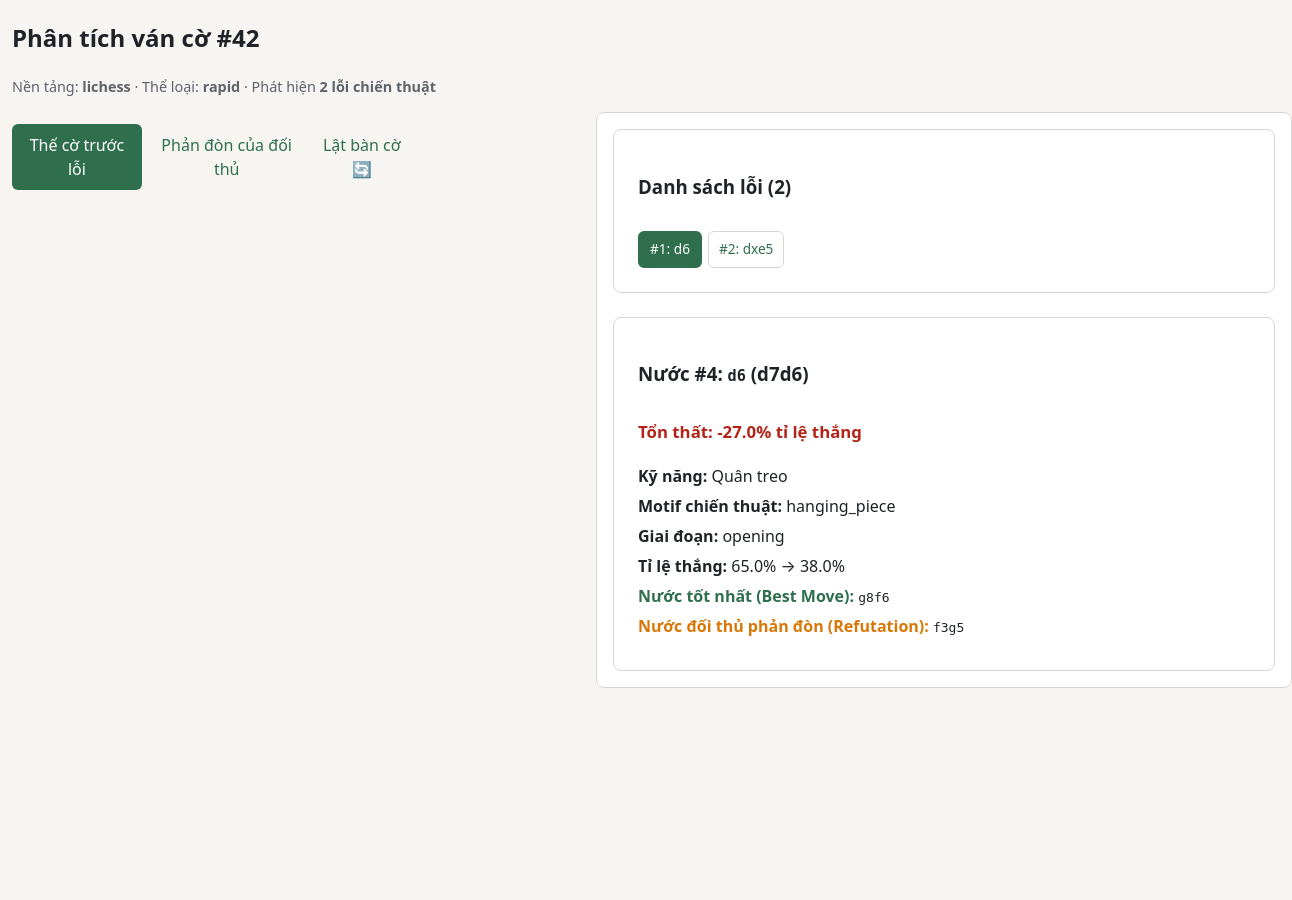
it: GameAnalysisView - Component Tests › 13. MistakeSelector: Chuyển đổi qua lại giữa các lỗi trong ván cờ
Expected: the heading "Nước #4: d6 (d7d6)" is shown, [638,361,808,386]
Note: Click chọn lỗi 2 (dxe5)
Click the button "#2: dxe5".
click(746, 250)  # box [708,231,784,268]
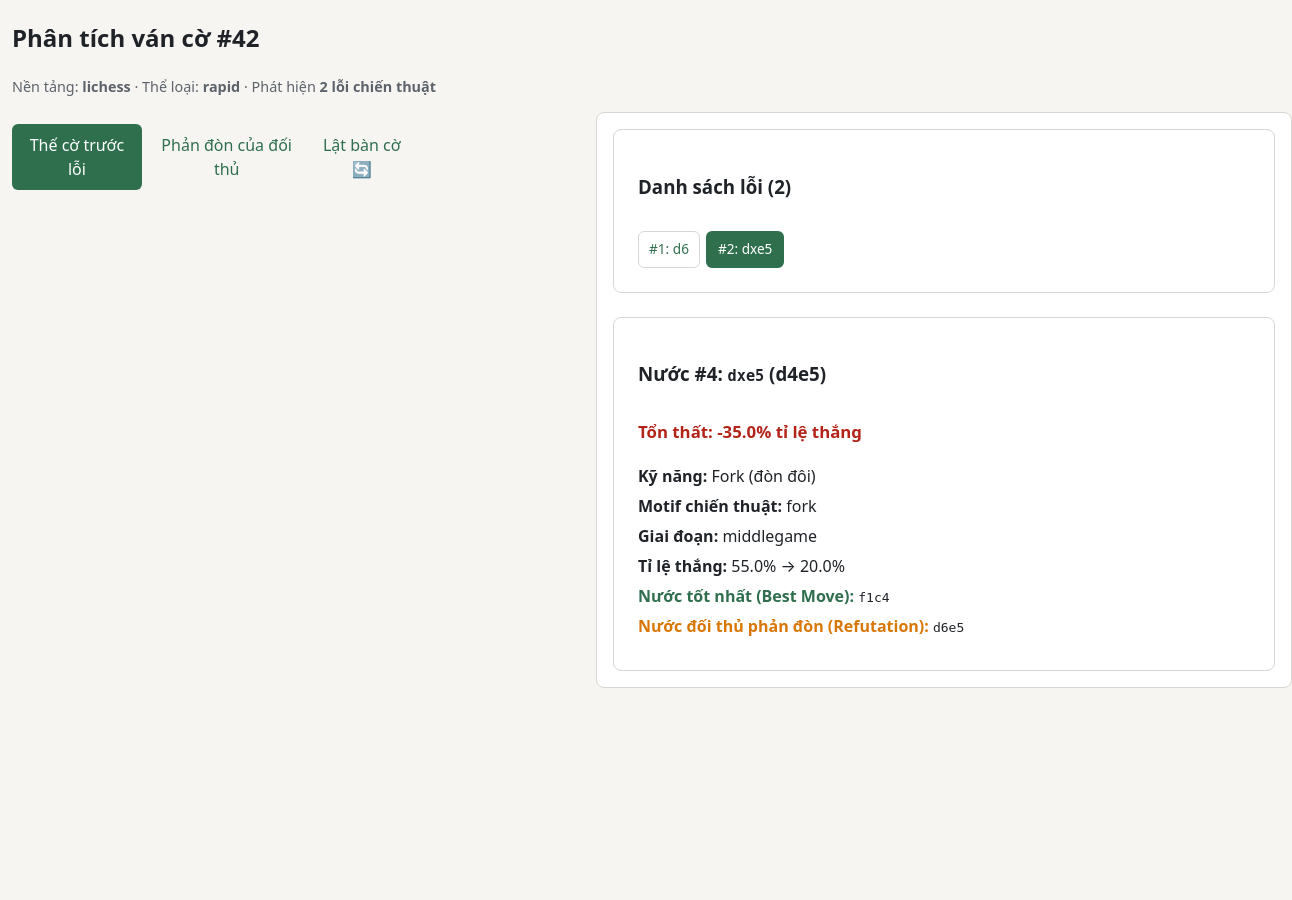
Expected: the heading "Nước #4: dxe5 (d4e5)" is shown, [638,361,826,386]
Expected: the text "Tổn thất: -35.0% tỉ lệ thắng" is shown, [638,420,862,443]
Expected: the text "Fork (đòn đôi)" is shown, [711,465,816,487]
